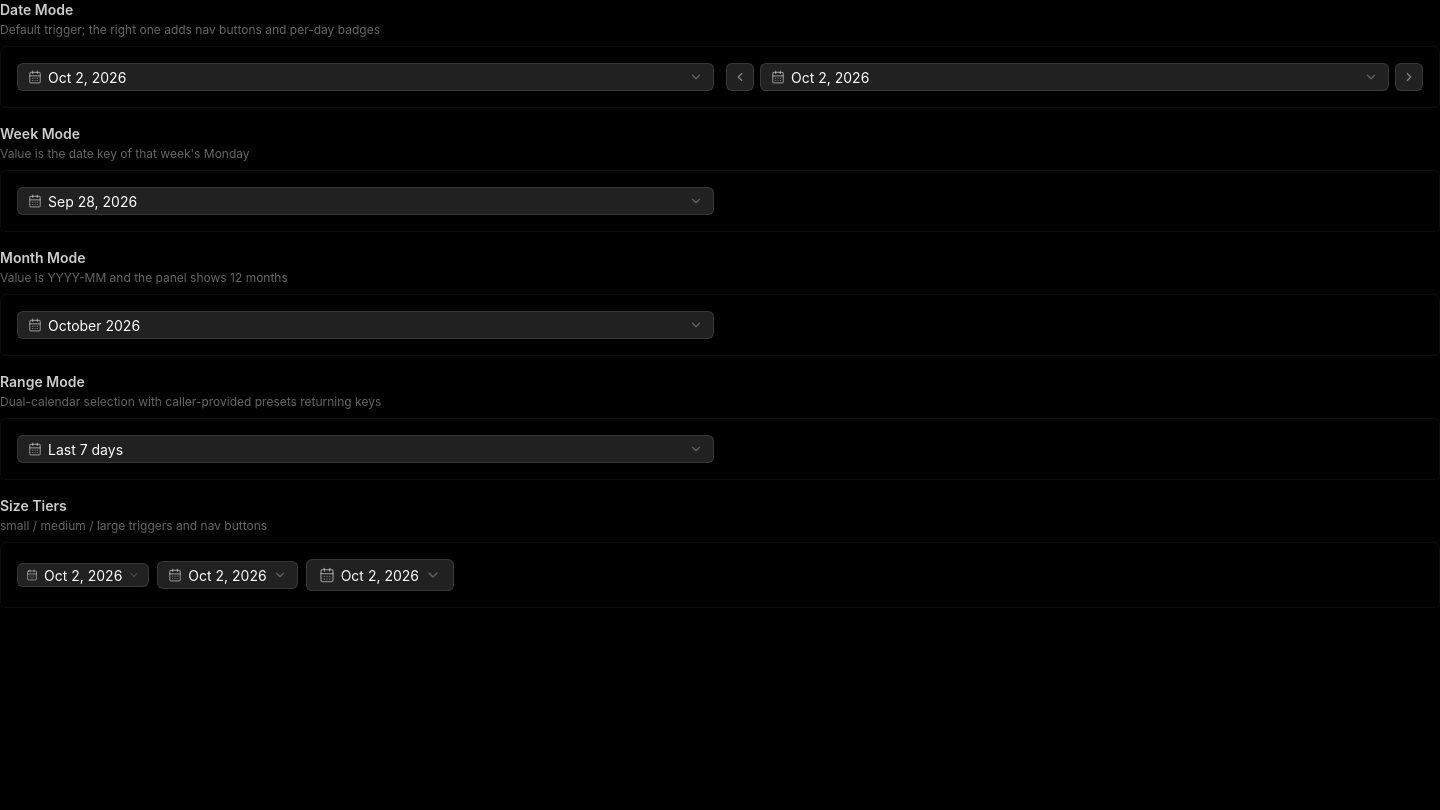
Test: UI Preview 新增 Demo › LxDatePickerDemo 覆盖四种模式并可展开日历弹层
Expected: the heading "Date Mode" is shown, [0, 1, 73, 18]
Expected: the heading "Week Mode" is shown, [0, 125, 80, 142]
Step 1. Click the 1st button "Oct 2, 2026" → (87, 77), box [17, 63, 714, 91]
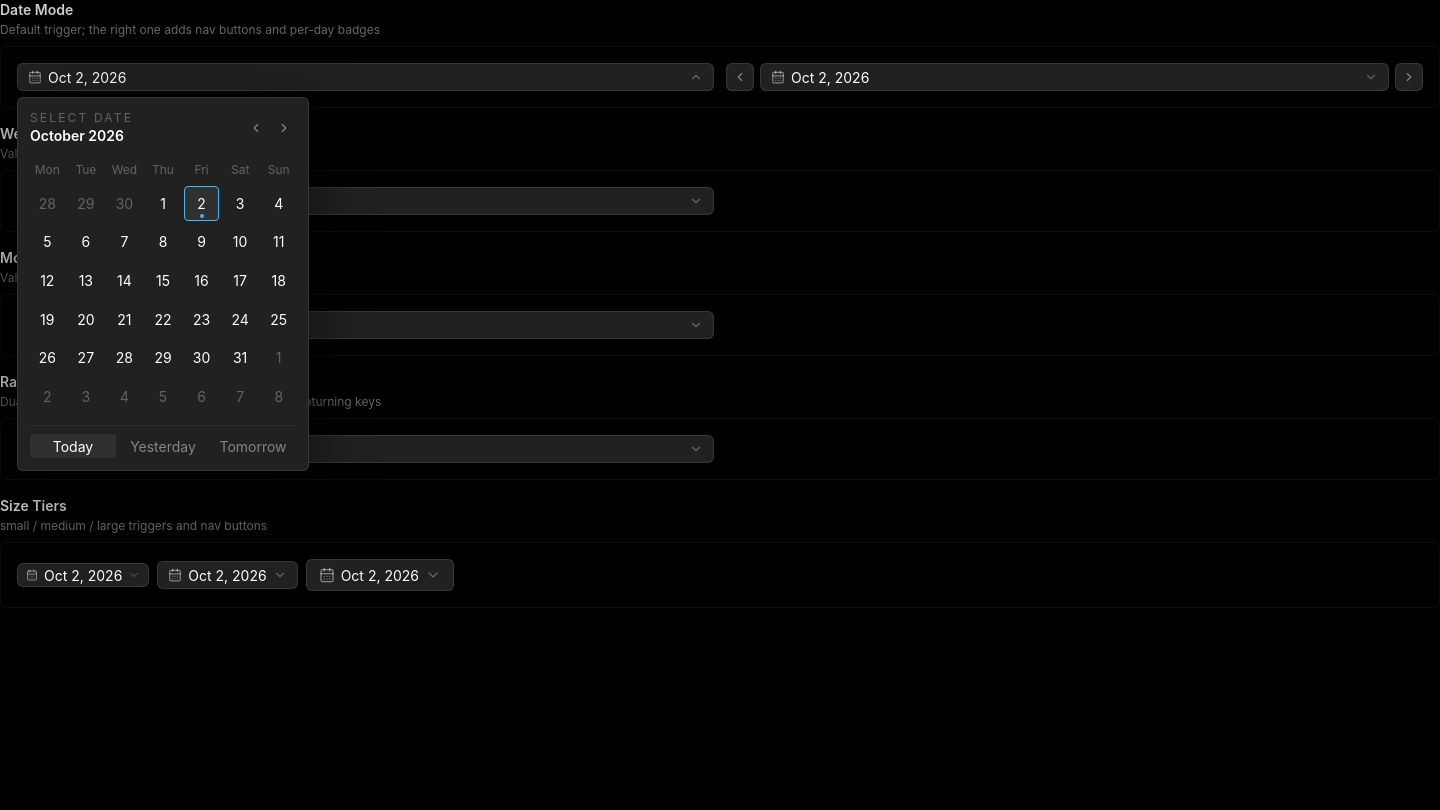
Now the dialog is shown, box [17, 97, 309, 472]
